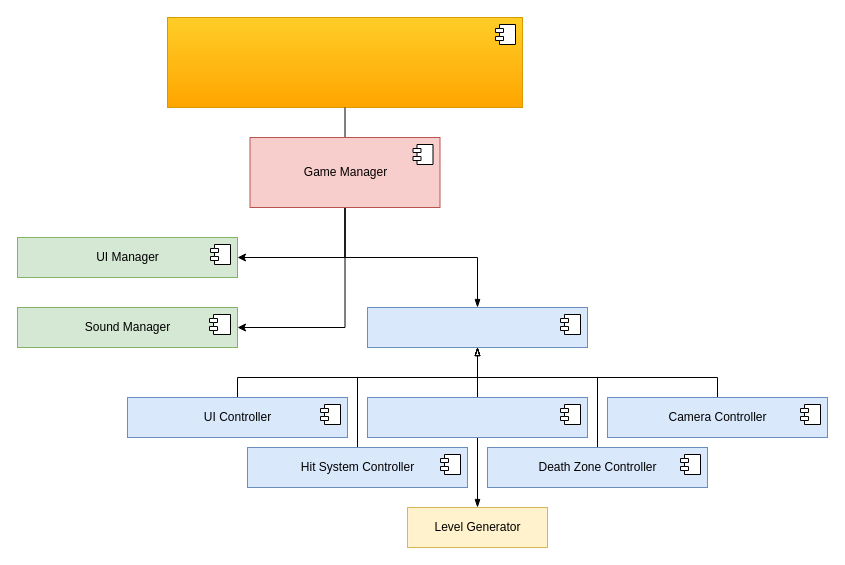
This 845x565 diagram has some shape labels left out. Here are the shapes that lost their labels. From the top down, the centre of each, then its label:
At point (344, 62): "UNITY APP".
At point (477, 327): "IController".
At point (477, 417): "Level Controller".
